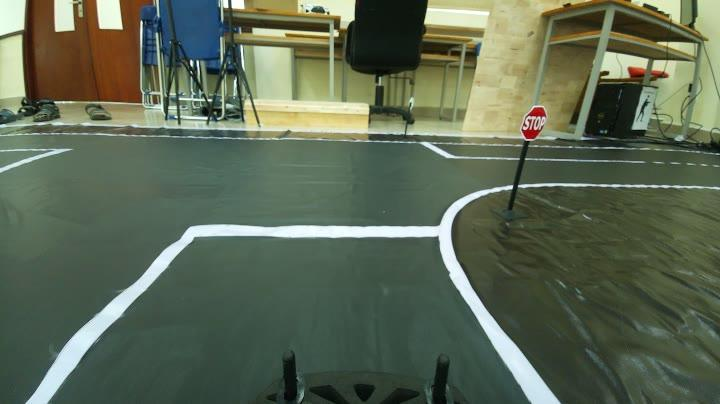stop: (516, 101, 552, 146)
